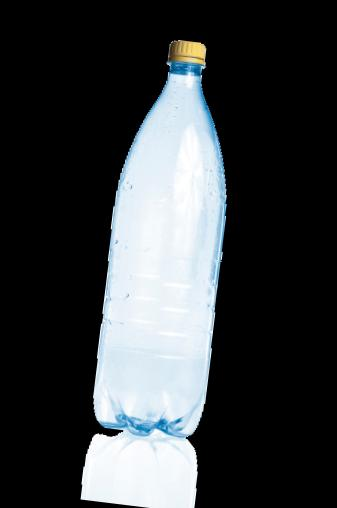Plastik: (81, 27, 253, 446)
